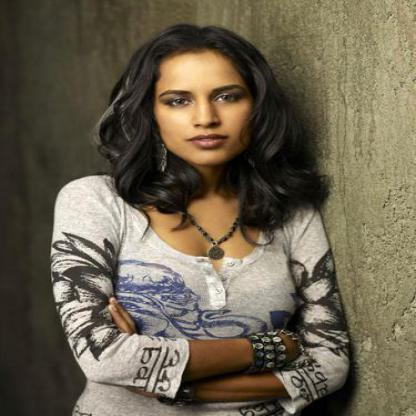long-hair: (81, 162, 331, 212)
